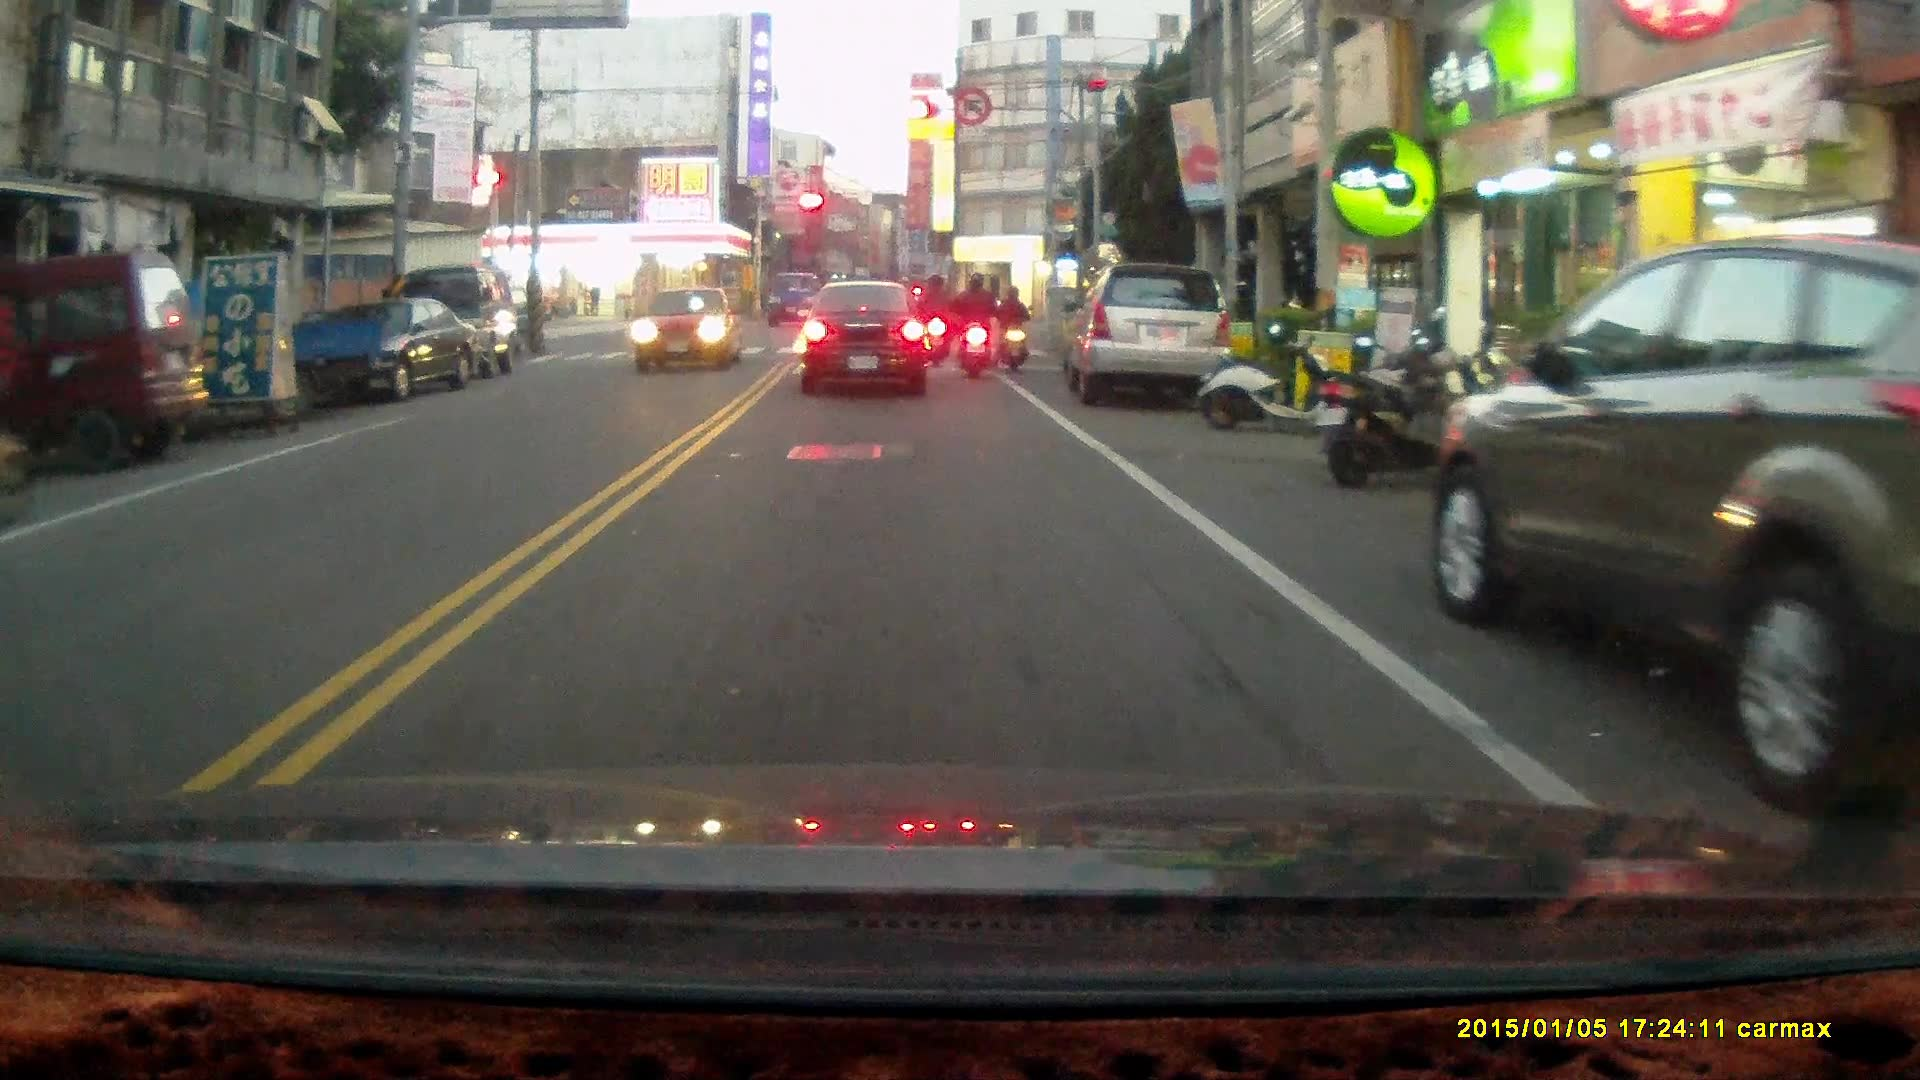rider: (951, 270, 1000, 378), (917, 271, 952, 367), (996, 284, 1028, 373)
vehicle: (1436, 233, 1920, 828), (1, 250, 212, 477), (1060, 259, 1239, 413), (282, 293, 488, 403), (394, 259, 523, 383), (801, 277, 935, 396), (633, 284, 739, 371)
